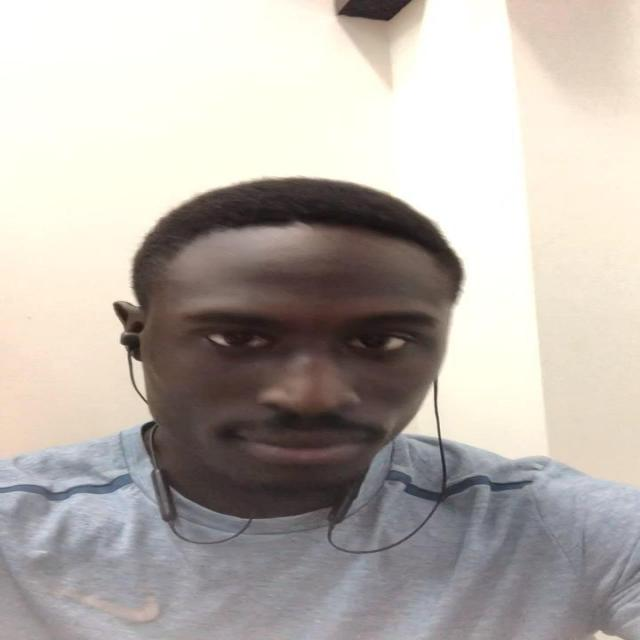face: (121, 247, 467, 495)
